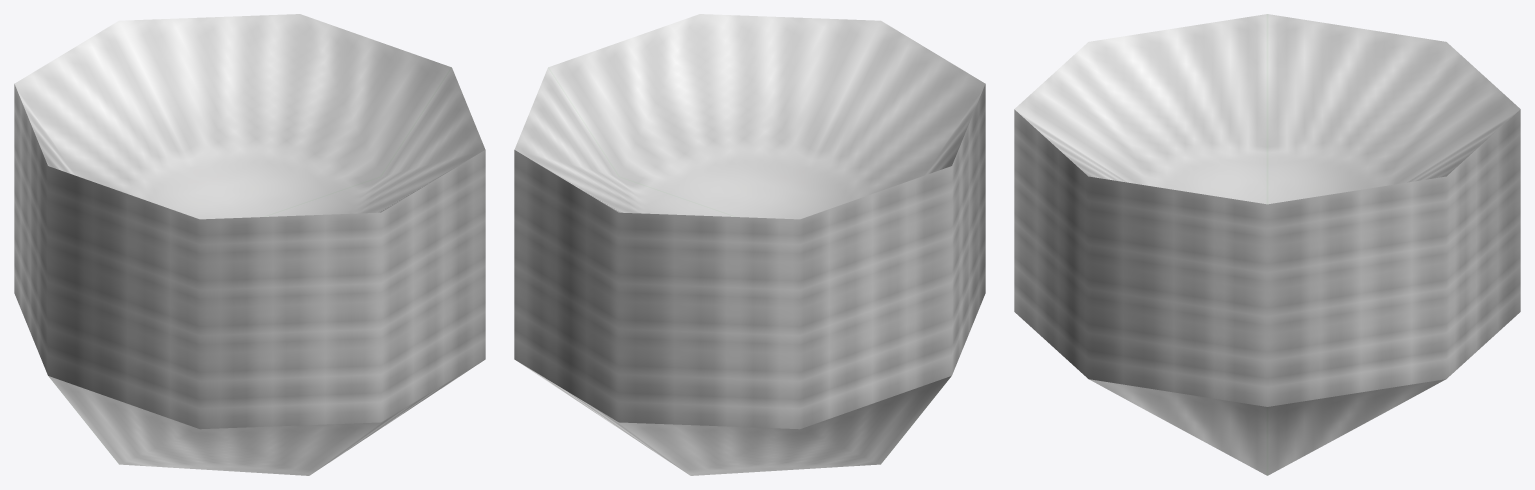
File: jsf_WheelCase_01_Set.fbx
The picture shows the model from 3 angles, left to right: view 1: azimuth 30°, elevation 25°; view 2: azimuth 150°, elevation 25°; view 3: azimuth 270°, elevation 25°; orthographic projection. The views are drawn at different scales.
Visible parts, largest first — view 1: jsf_WheelCase_01_Set; view 2: jsf_WheelCase_01_Set; view 3: jsf_WheelCase_01_Set.
Boxes of the visible parts, x1=… form: jsf_WheelCase_01_Set: x1=14, y1=14, x2=485, y2=475; jsf_WheelCase_01_Set: x1=514, y1=14, x2=985, y2=475; jsf_WheelCase_01_Set: x1=1014, y1=14, x2=1520, y2=475.
Size of the model in its own units: 7.96 by 5.95 by 8.95.
